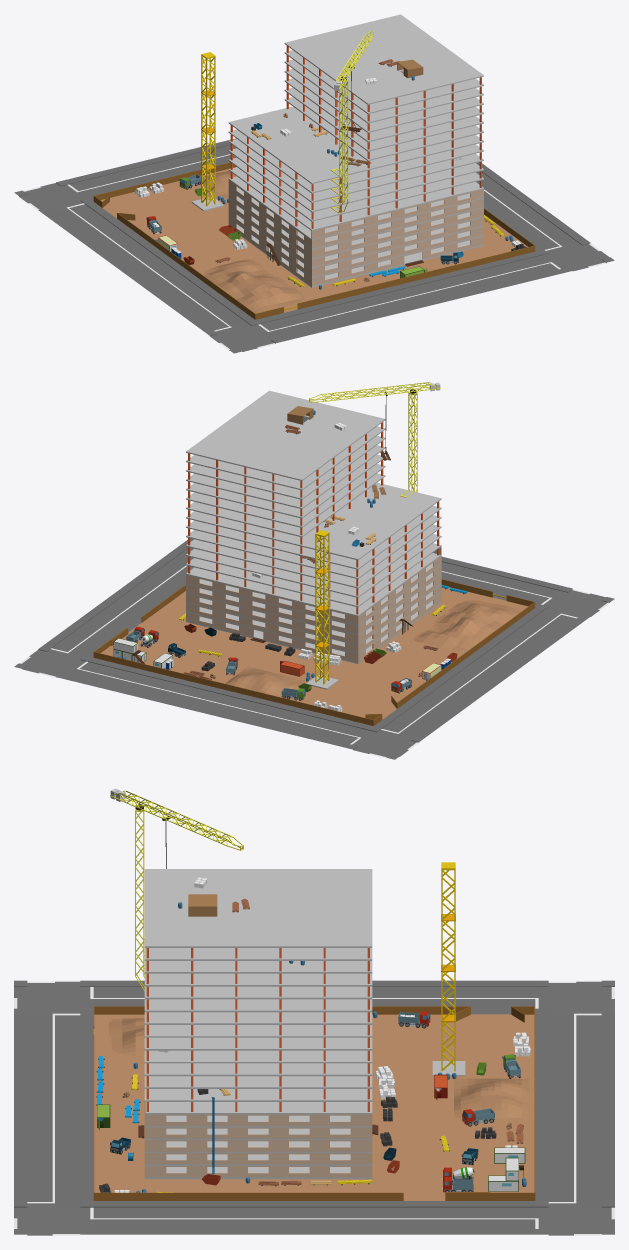
File: HouseConstructionSite3.glb
The picture shows the model from 3 angles, top to bottom: view 1: azimuth 30°, elevation 25°; view 2: azimuth 150°, elevation 25°; view 3: azimuth 270°, elevation 25°; orthographic projection. The views are drawn at different scales.
Visible parts, largest first — view 1: HouseConstructionSite.001, Roads.001; view 2: HouseConstructionSite.001, Roads.001; view 3: HouseConstructionSite.001, Roads.001.
Part boxes in pixels (x1,y1,x2,y2): HouseConstructionSite.001: (93,14,535,319); Roads.001: (14,138,614,353); HouseConstructionSite.001: (93,382,535,725); Roads.001: (14,538,614,759); HouseConstructionSite.001: (93,788,535,1200); Roads.001: (14,980,614,1235).
Size of the model in its own units: 136 by 71.51 by 136.
3 materials, 3 textured.
